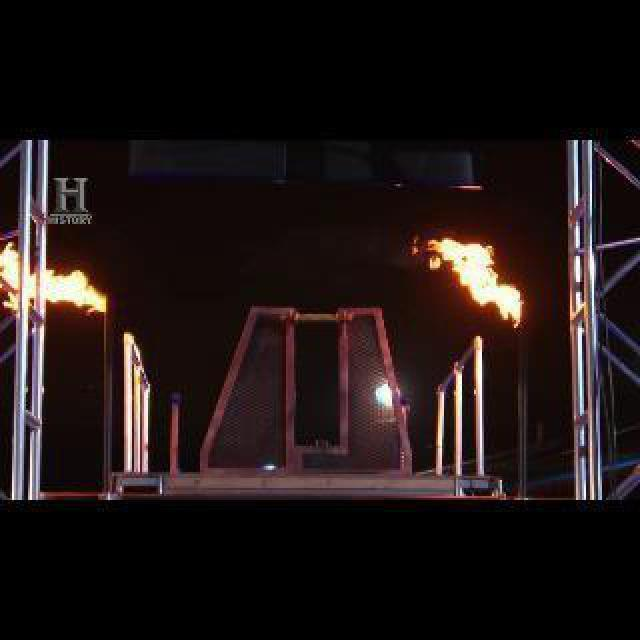Fire: (406, 230, 544, 334), (2, 246, 120, 322)
